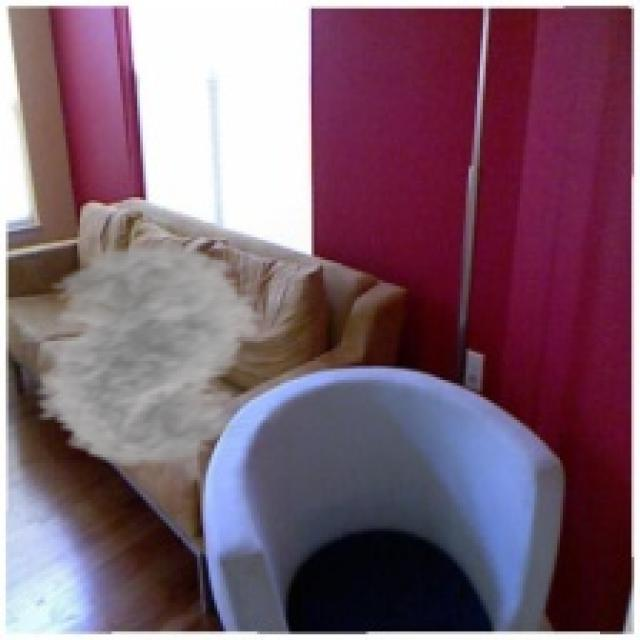smoke: (6, 240, 283, 469)
